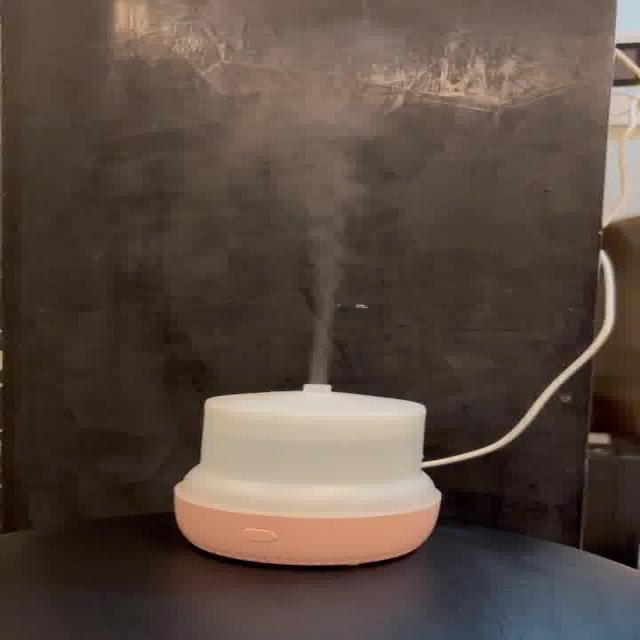fire: (261, 106, 399, 381)
